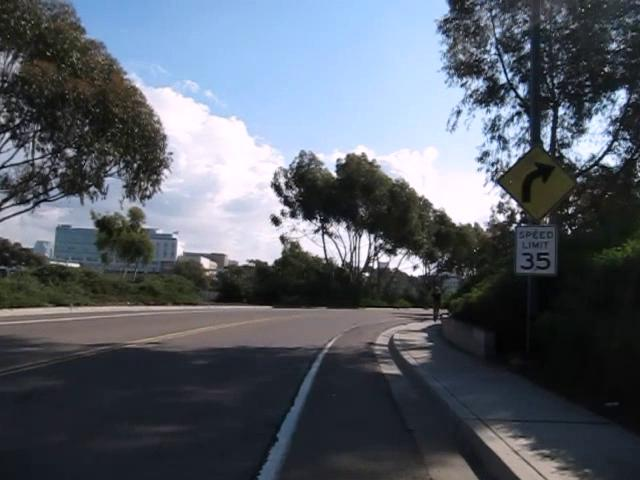speedLimit35: (514, 224, 558, 276)
